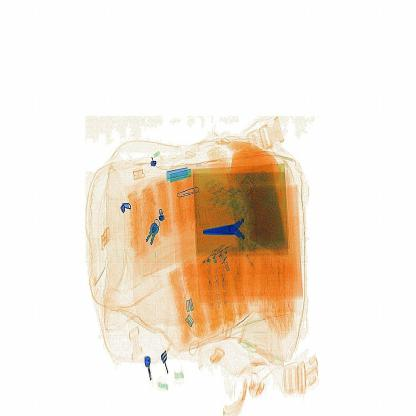gun: (194, 198, 274, 258)
